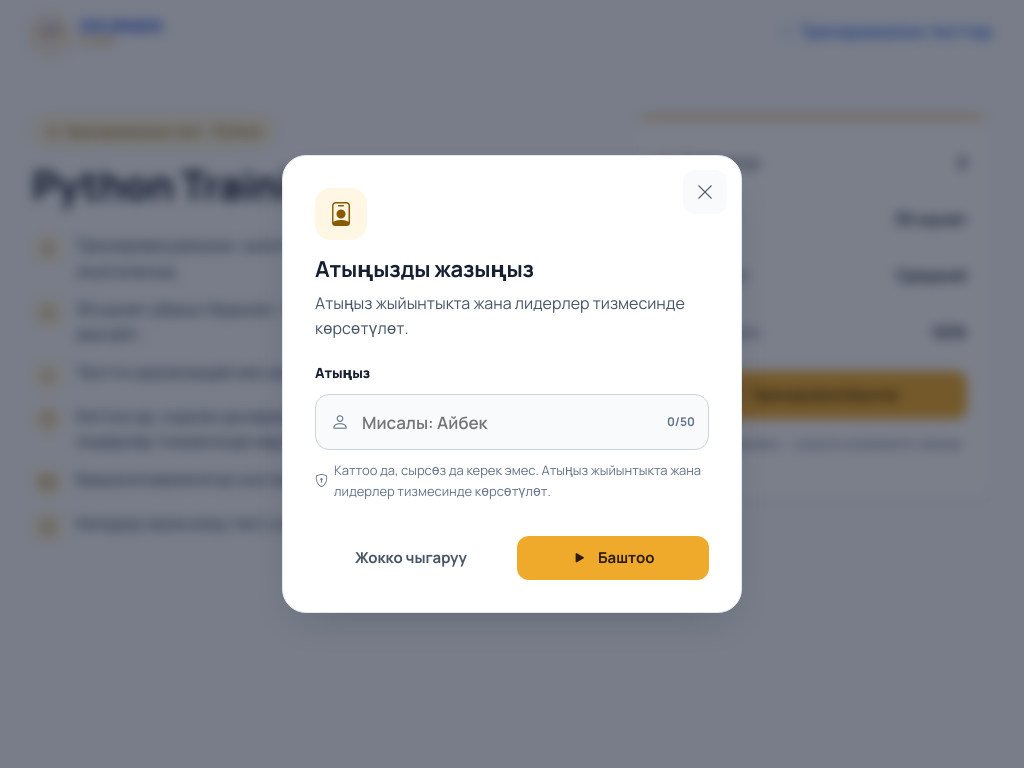
exam layout guard › «Артка» asks first, then returns to the list; the attempt stays resumable
The image size is (1024, 768).
In the field labelled "Атыңыз": (512, 422) [315,394,709,450], type "Islam"
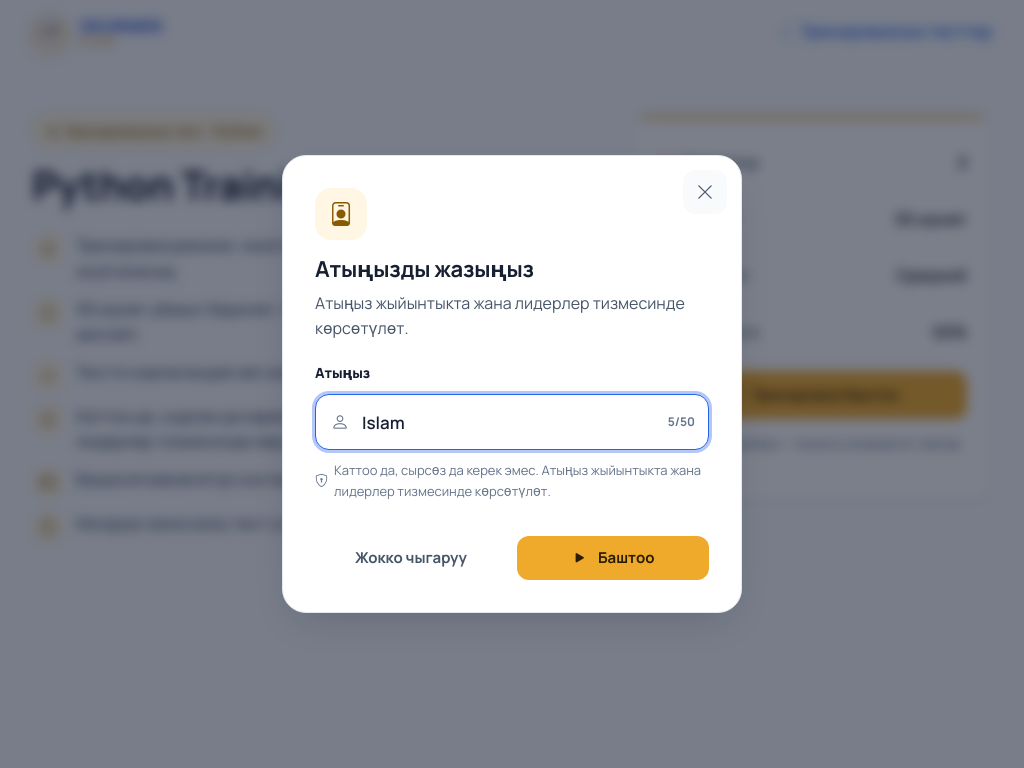
Click the button "Баштоо": (613, 558) [517,536,709,580]
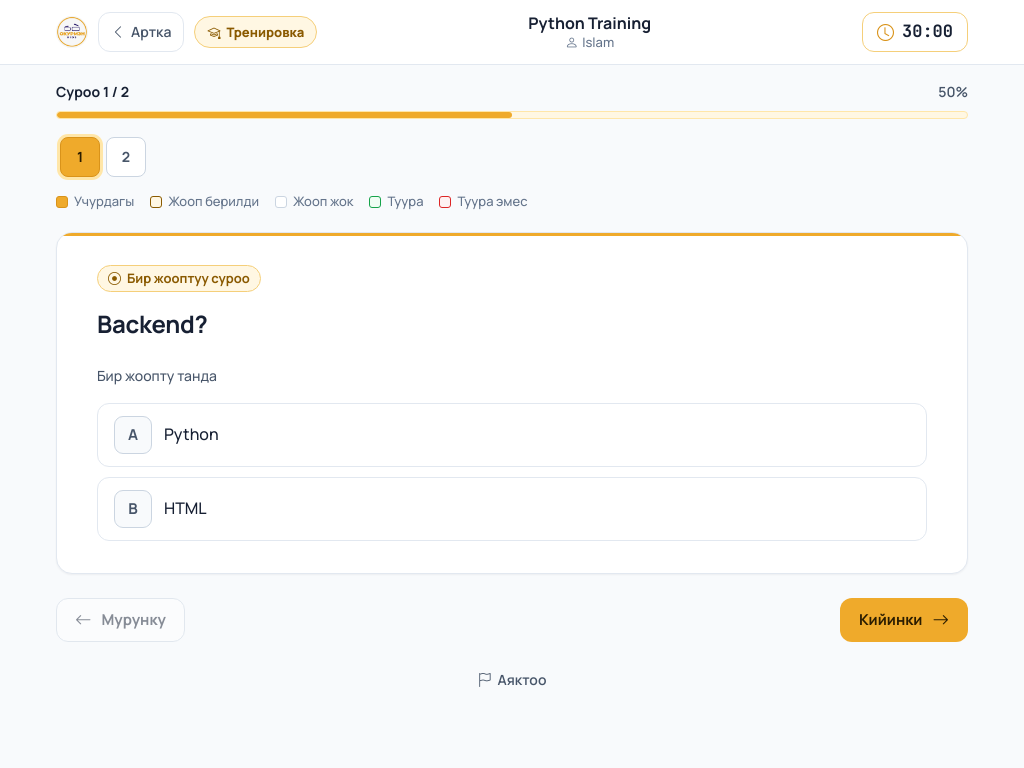
Click the button "Артка": (141, 32) [98,12,184,52]
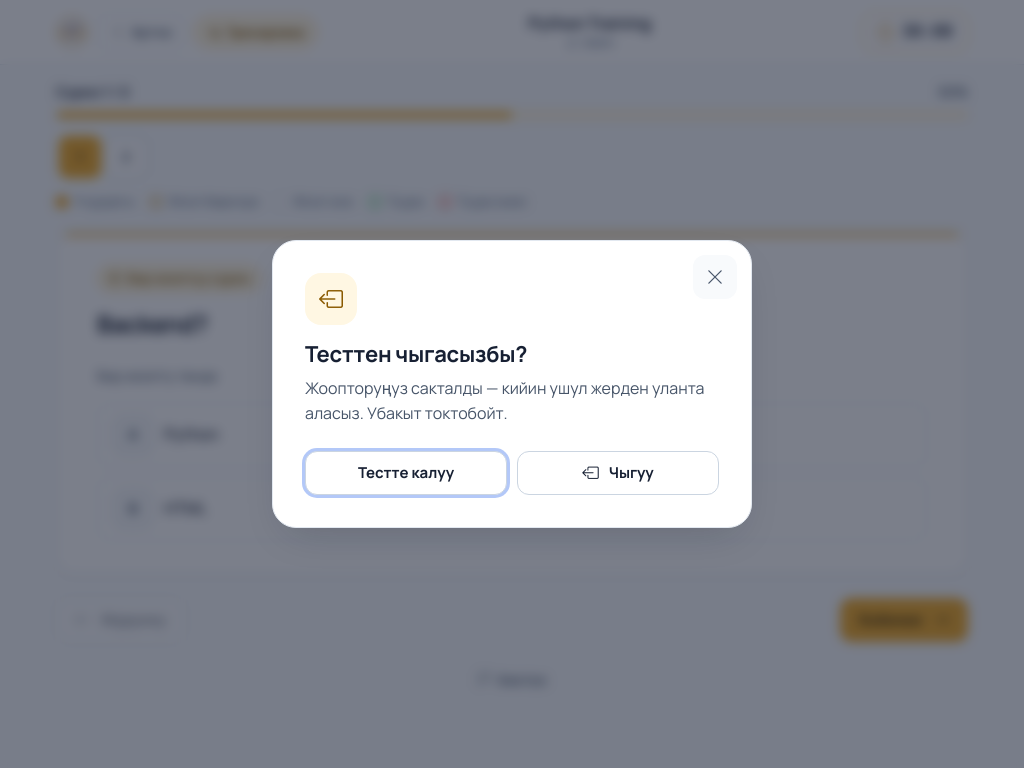
Click the button "Тестте калуу": (406, 473) [305,451,507,495]
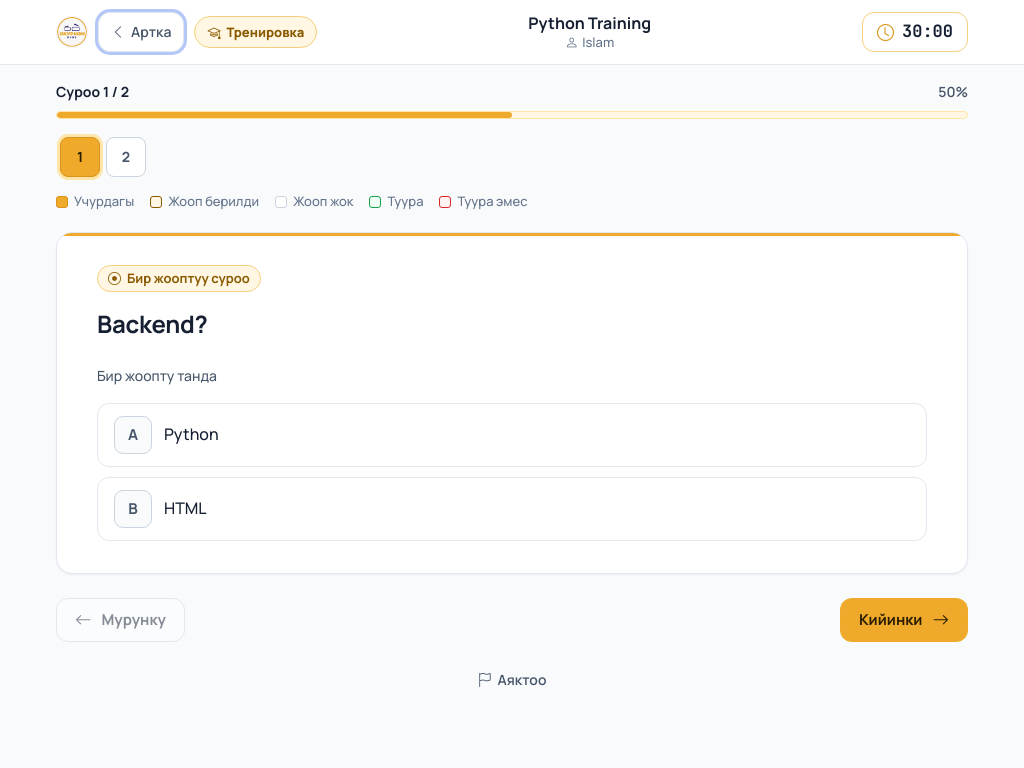
Result: the heading "Backend?" is shown at [97,307,208,340]
Click the button "Артка": (141, 32) [98,12,184,52]
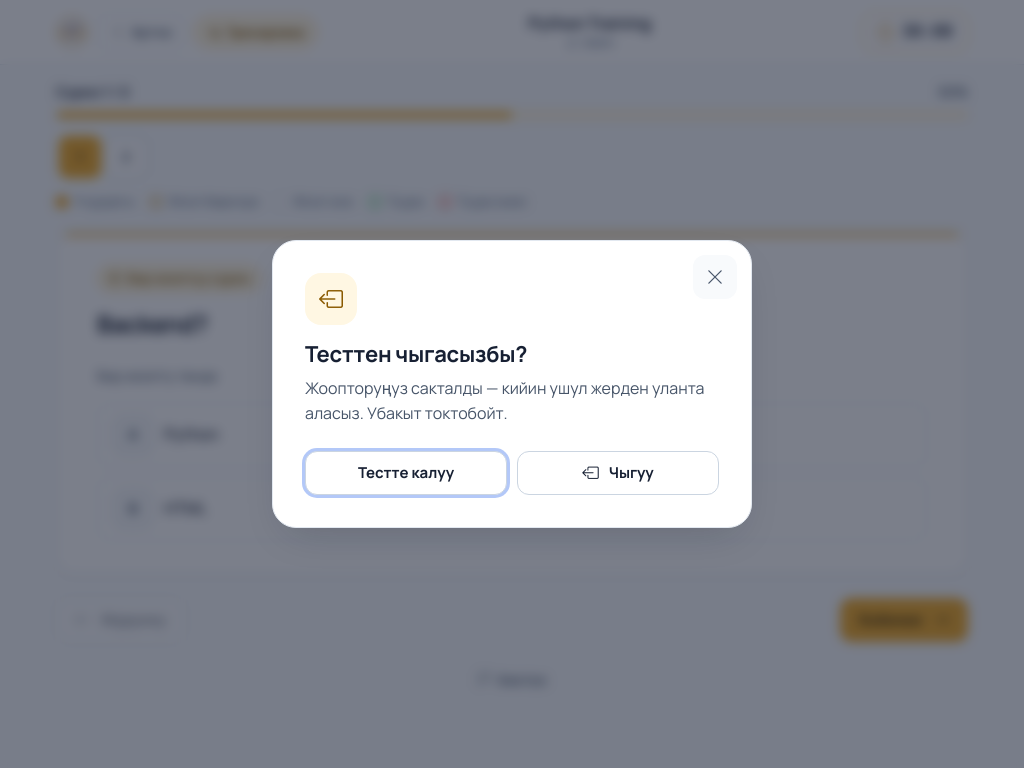
Click the button "Чыгуу": (618, 473) [517,451,719,495]
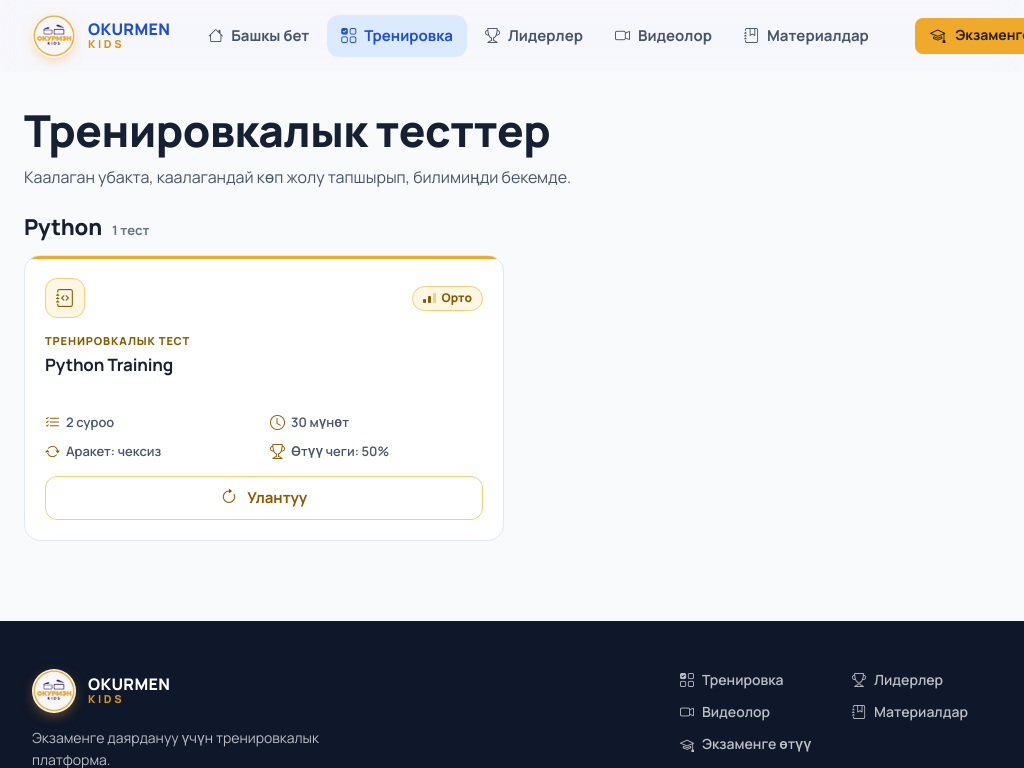
Result: the heading "Тренировкалык тесттер" is shown at [24,100,550,160]
